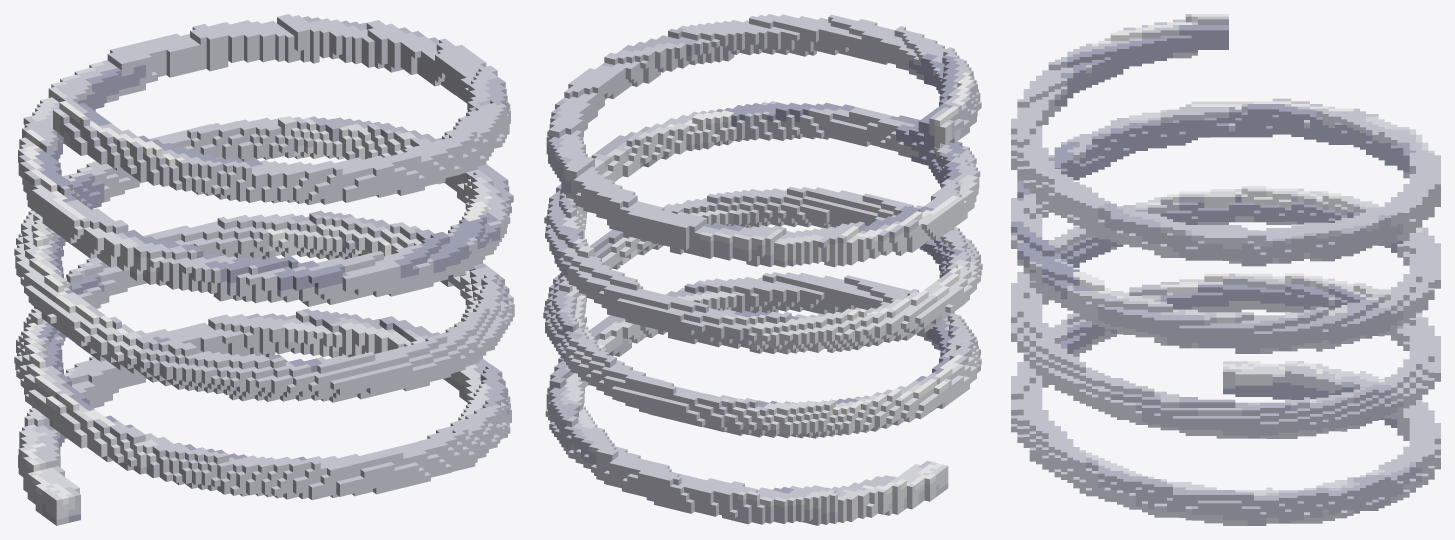
Rendered from spring.FBX.
3 renders of one model, left to right at view 1: azimuth 30°, elevation 25°; view 2: azimuth 150°, elevation 25°; view 3: azimuth 270°, elevation 25°, orthographic. The views are drawn at different scales.
Parts seen in each view (by area): view 1: default008; view 2: default008; view 3: default008.
Part boxes in pixels (x1,y1,x2,y2): default008: [14, 14, 514, 525]; default008: [543, 14, 982, 525]; default008: [1011, 14, 1440, 525].
Size of the model in its own units: 1238 by 1167 by 1220.
